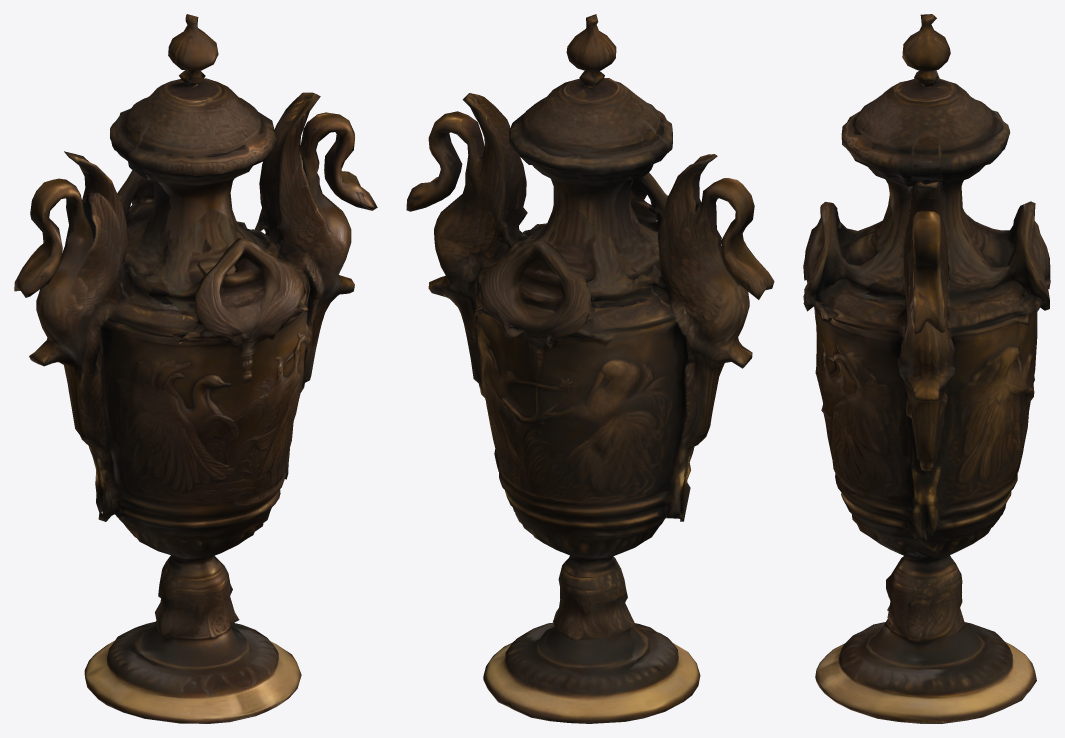
The model's file is asset.glb.
3 views of the same model, side by side, from view 1: azimuth 30°, elevation 25°; view 2: azimuth 150°, elevation 25°; view 3: azimuth 270°, elevation 25° (orthographic).
Size of the model in its own units: 1.12 by 2 by 0.676.
Materials: 1 (1 with a texture image).
